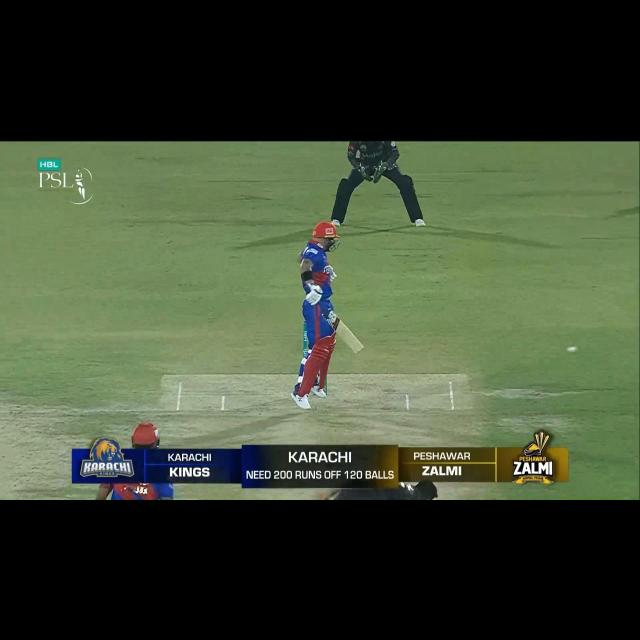bat: (323, 304, 364, 356)
toe: (351, 341, 365, 354)
